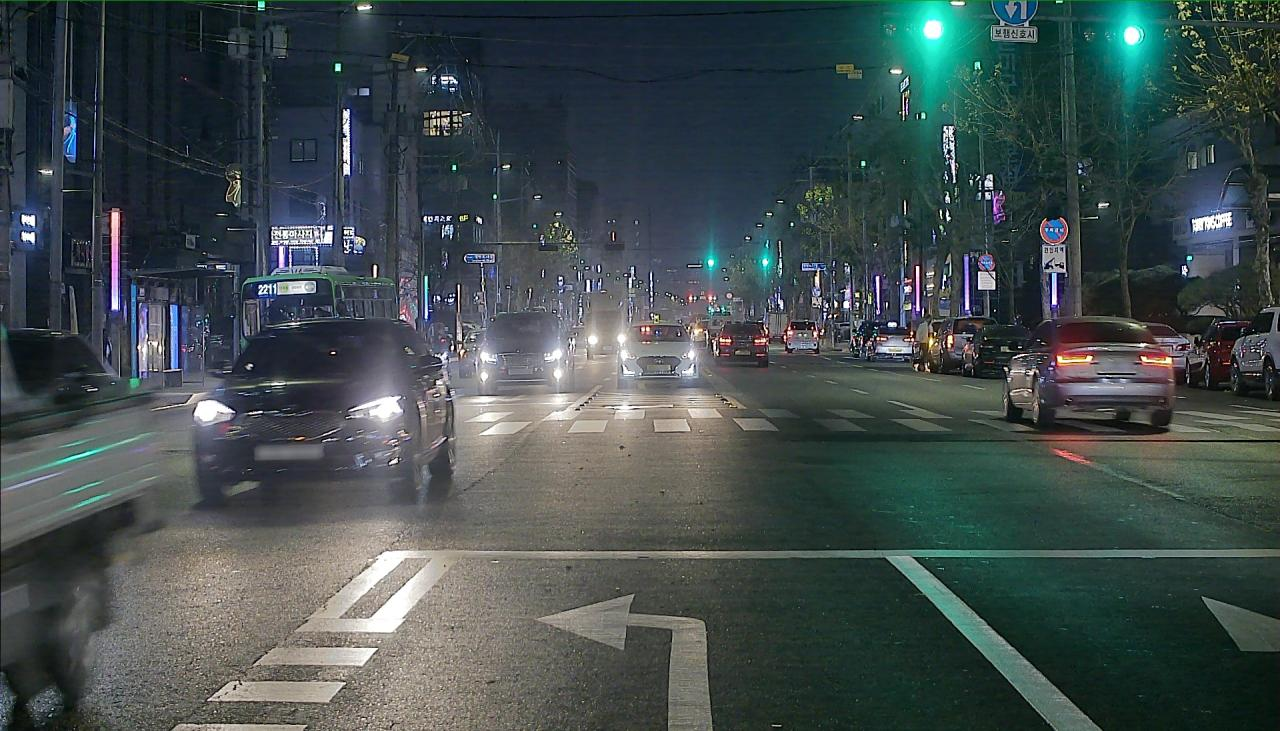Green Light: (1122, 24, 1145, 48), (921, 18, 945, 39)
